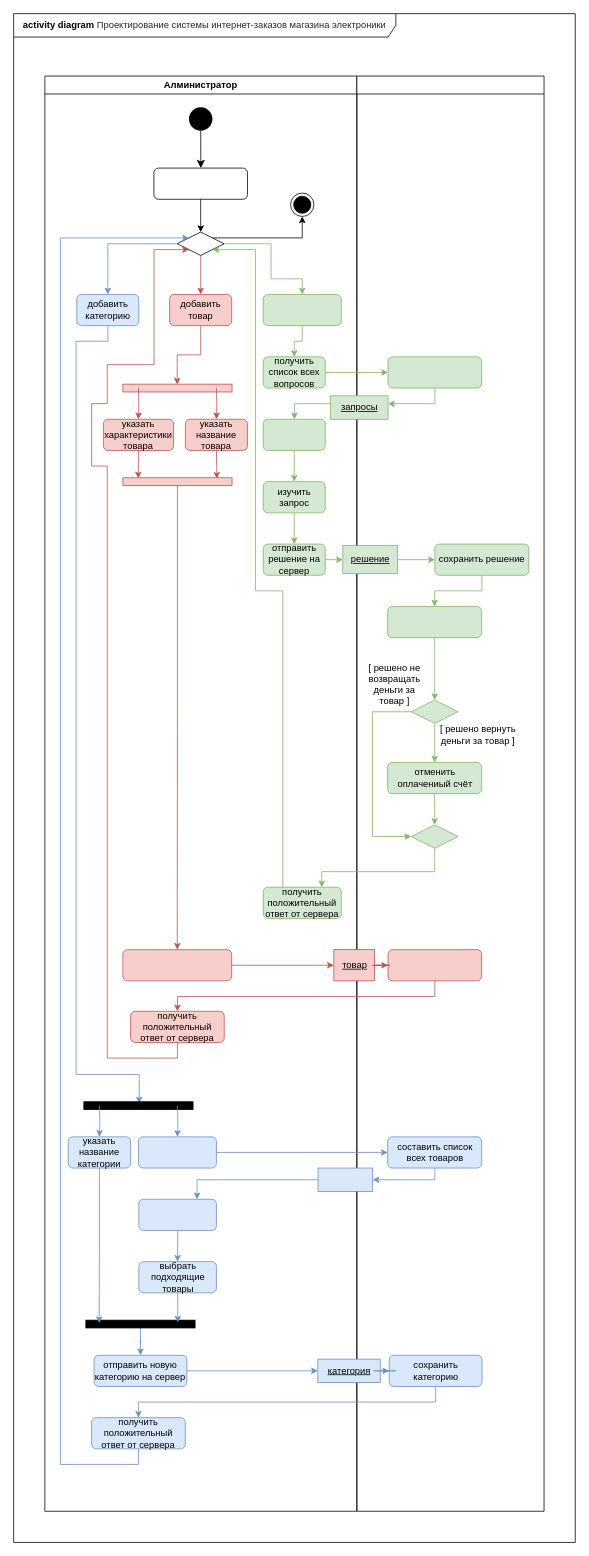
Image size: 589x1556. Some labels were removed from this diagram. The shapes that lost their labels are listed below. From the top down, each one's box as (x1, y1, x2, y2) in pixels, then its label:
(153, 167, 247, 199): авторизоваться на сайте
(262, 294, 341, 326): решить запрос на возврат товара
(387, 356, 482, 388): получить список всех запросов
(262, 418, 325, 450): выбрать запрос
(387, 606, 482, 638): отправить пользователю уведомление
(356, 75, 544, 1511): Сервер
(122, 949, 232, 981): отправить характеристики нового товара на сервер
(387, 949, 482, 981): добавить новый товар в базу данных
(138, 1136, 216, 1168): получить список товаров
(317, 1167, 373, 1191): товары
(138, 1198, 216, 1230): получить список всех товаров с сервера
